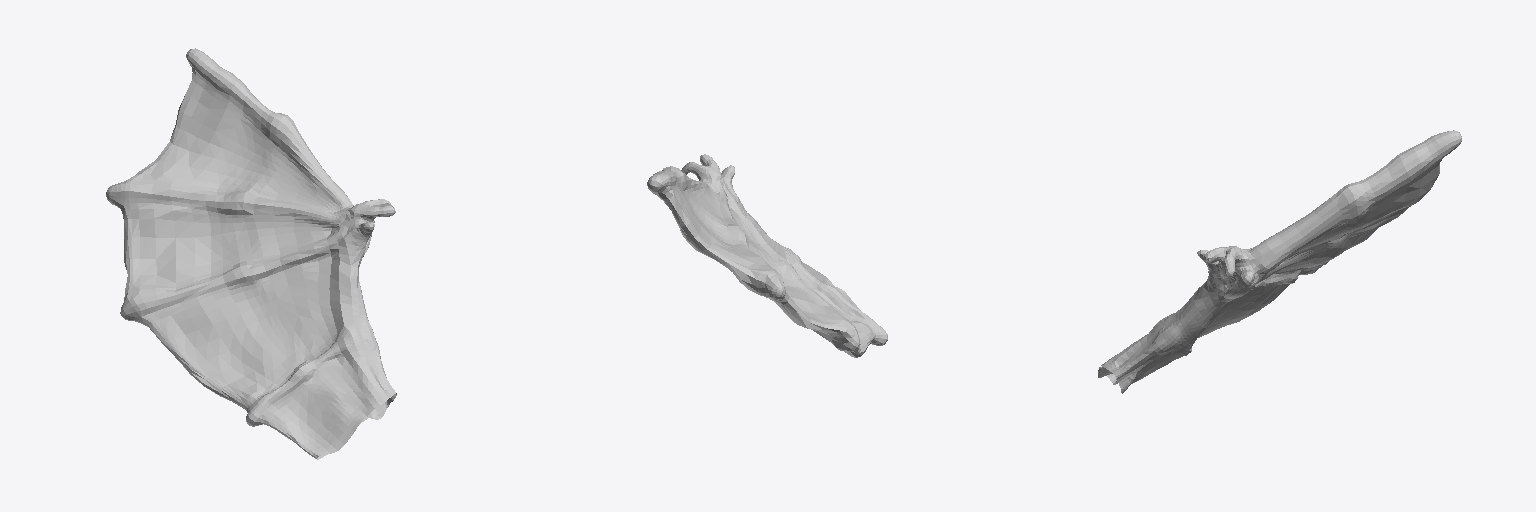
Rendered from alaIzq.obj.
3 renders of one model, left to right at view 1: azimuth 30°, elevation 25°; view 2: azimuth 150°, elevation 25°; view 3: azimuth 270°, elevation 25°, orthographic.
Parts seen in each view (by area): view 1: 17174_Tiamat_new.001__17174_Tiamat_v1default; view 2: 17174_Tiamat_new.001__17174_Tiamat_v1default; view 3: 17174_Tiamat_new.001__17174_Tiamat_v1default.
Part boxes in pixels (left/top/right/bottom): 17174_Tiamat_new.001__17174_Tiamat_v1default: left=106, top=48, right=396, bottom=459; 17174_Tiamat_new.001__17174_Tiamat_v1default: left=647, top=154, right=887, bottom=357; 17174_Tiamat_new.001__17174_Tiamat_v1default: left=1098, top=130, right=1461, bottom=393.
Bounding box in the file's own units: 6.31 × 7.31 × 8.8.